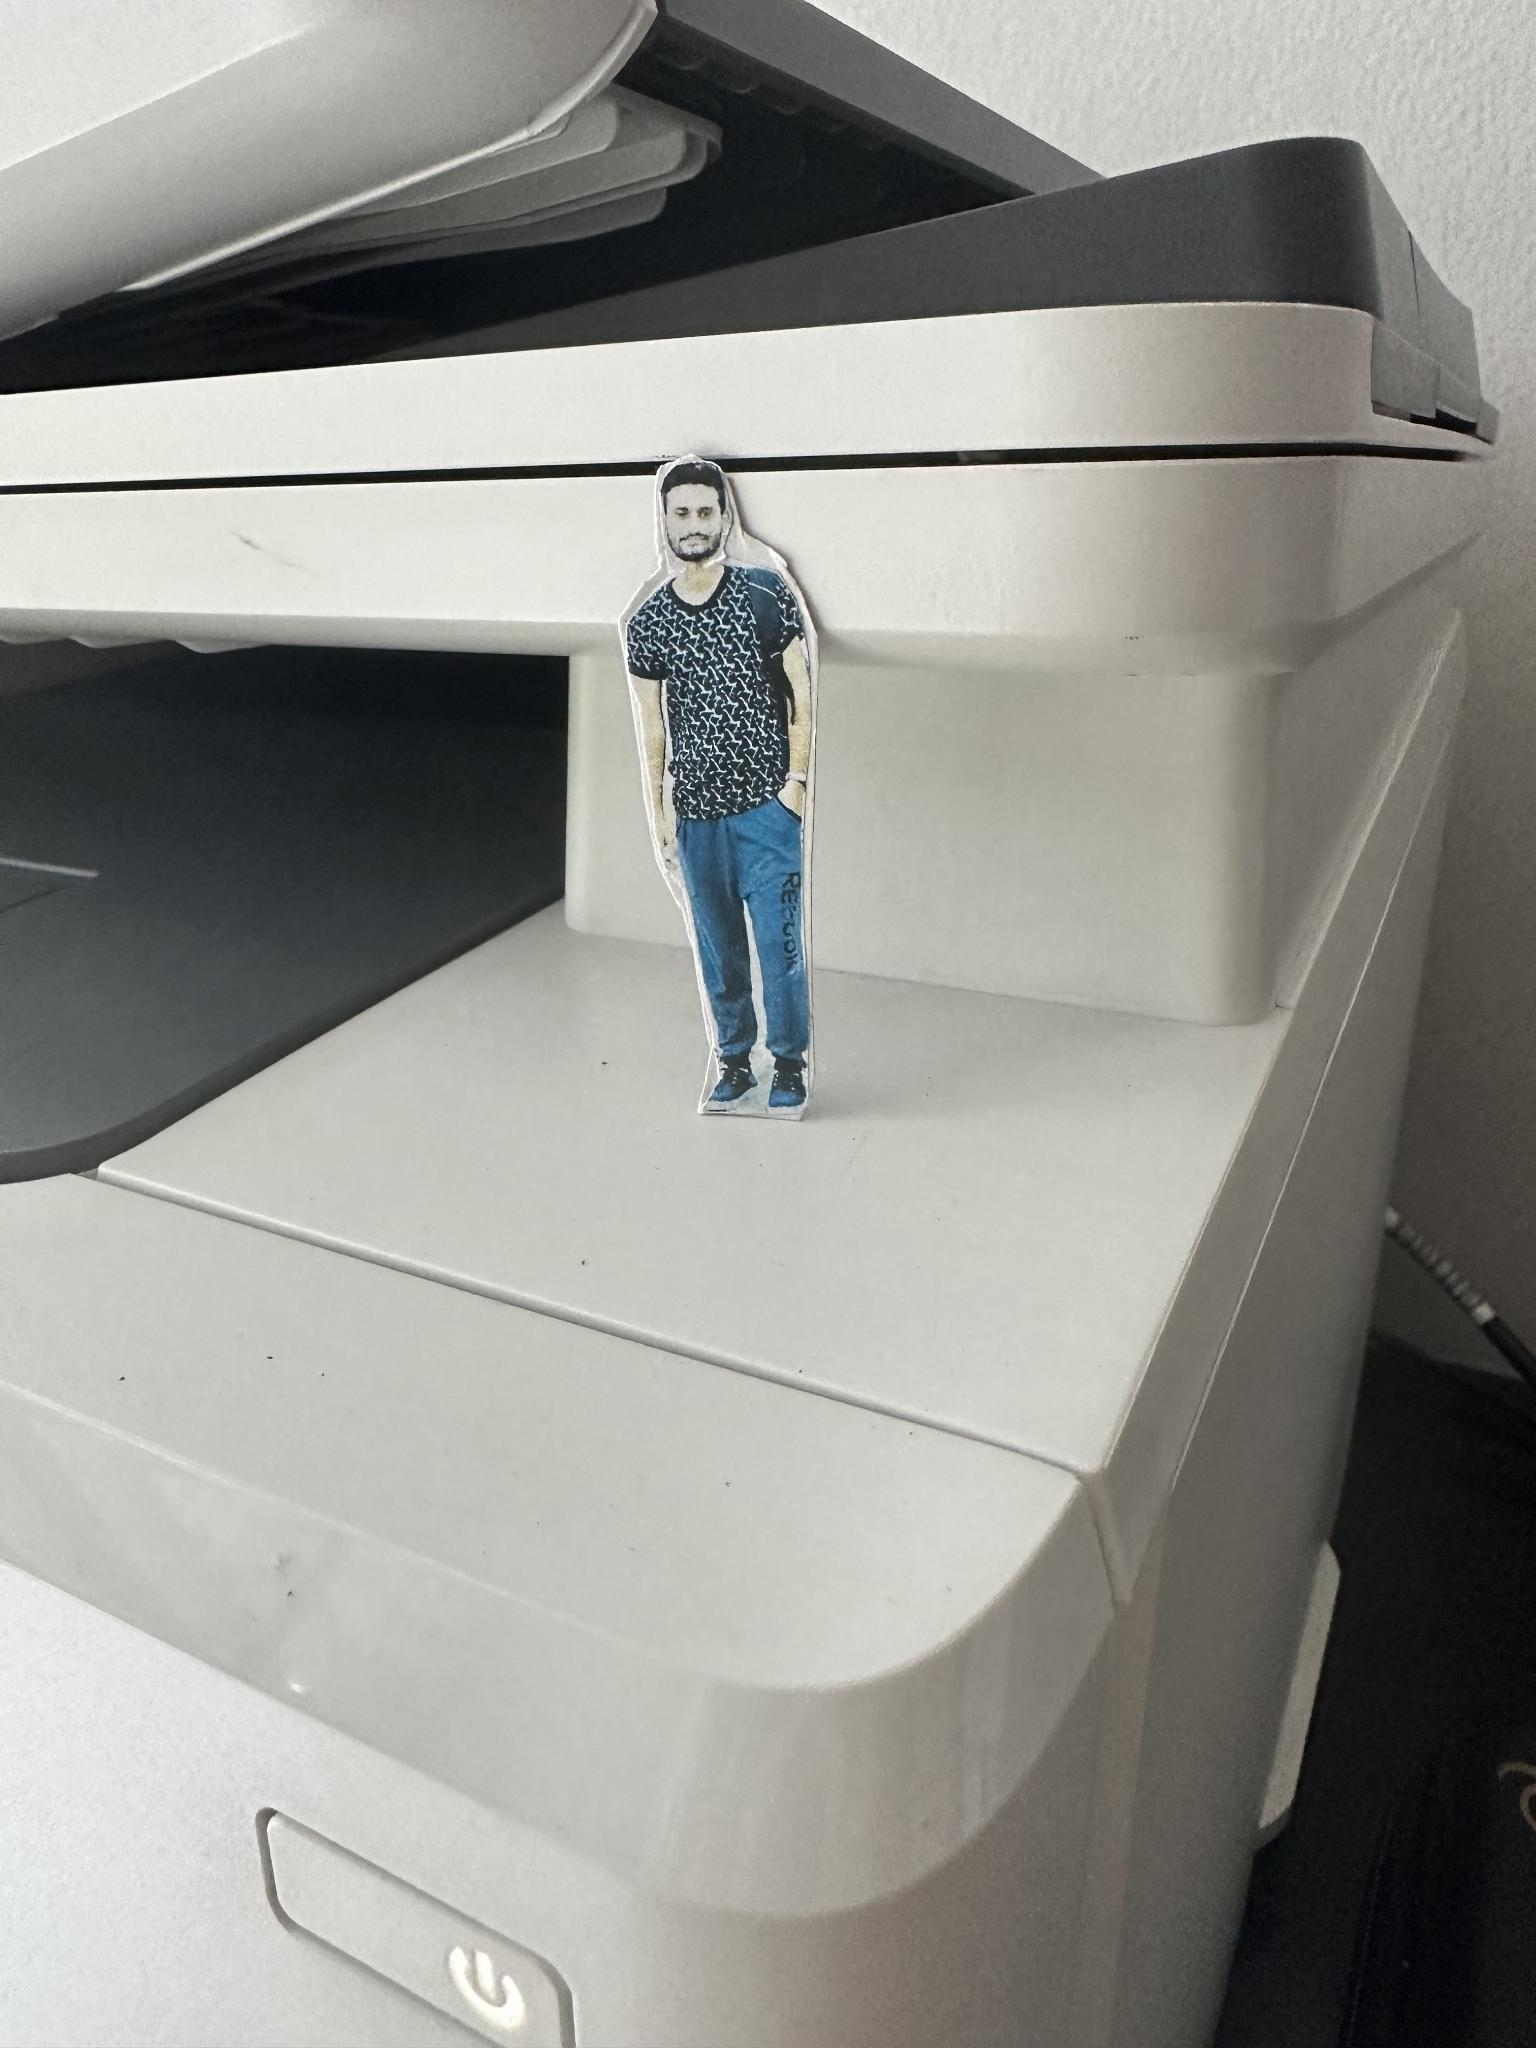person: (539, 386, 919, 1178)
